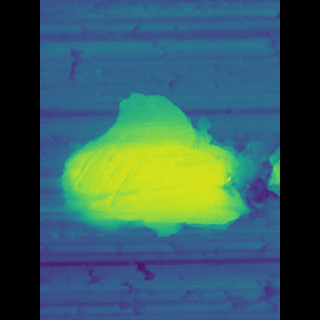Loch: (83, 91, 226, 237)
